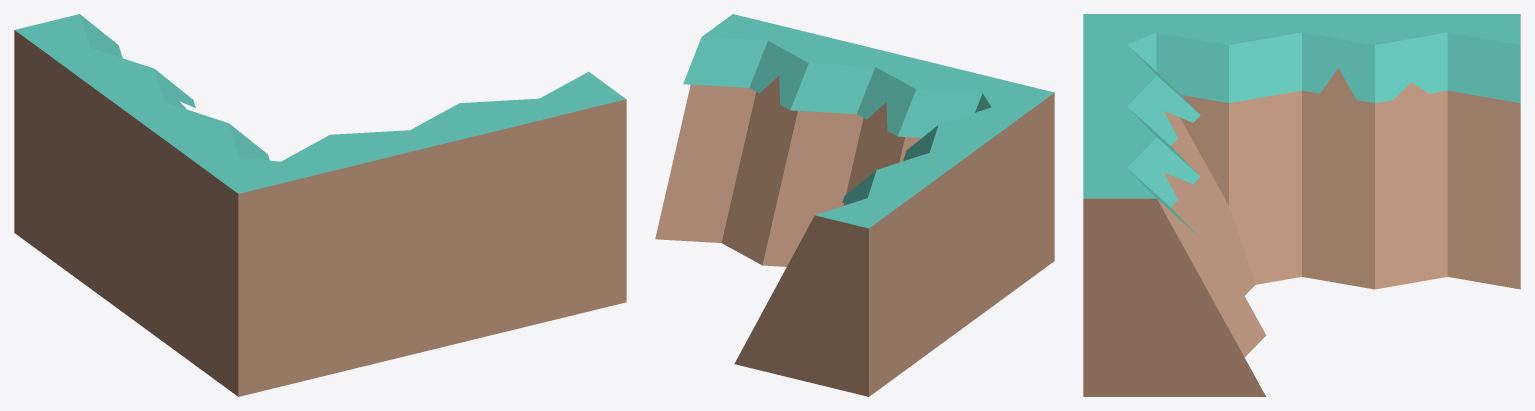
The model's file is cliff_halfCornerInner_rock.glb.
The picture shows the model from 3 angles, left to right: view 1: azimuth 30°, elevation 25°; view 2: azimuth 150°, elevation 25°; view 3: azimuth 270°, elevation 25°; orthographic projection. The views are drawn at different scales.
Parts seen in each view (by area): view 1: cliff_halfCornerInner_rock; view 2: cliff_halfCornerInner_rock; view 3: cliff_halfCornerInner_rock.
Part boxes in pixels (bbox=[...]): cliff_halfCornerInner_rock: bbox=[14, 14, 626, 396]; cliff_halfCornerInner_rock: bbox=[655, 14, 1054, 396]; cliff_halfCornerInner_rock: bbox=[1083, 14, 1520, 396].
Size of the model in its own units: 1 by 0.5 by 1.
